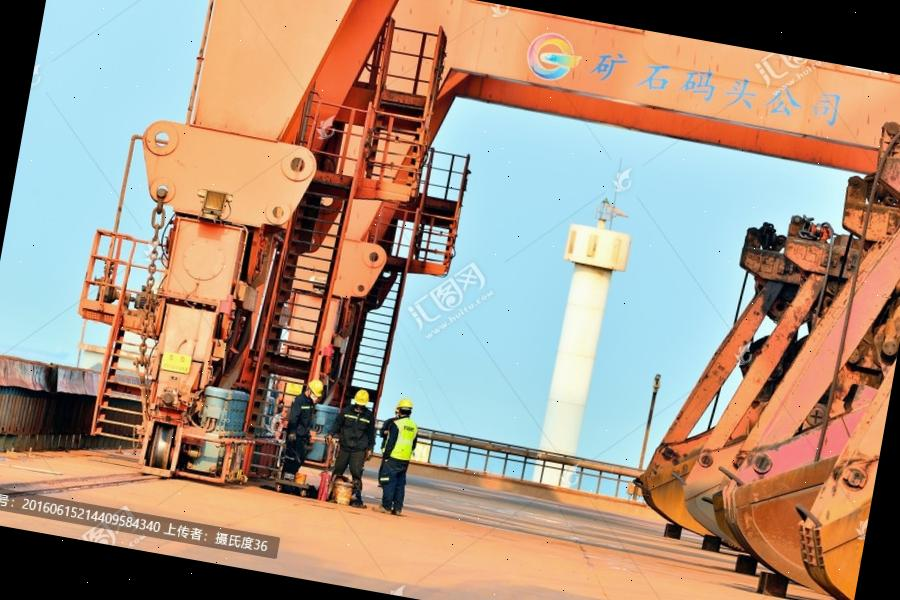helmet: (306, 374, 331, 399), (352, 387, 375, 405), (394, 395, 416, 411)
wear: (335, 409, 376, 455), (386, 416, 420, 462), (287, 398, 321, 444)
